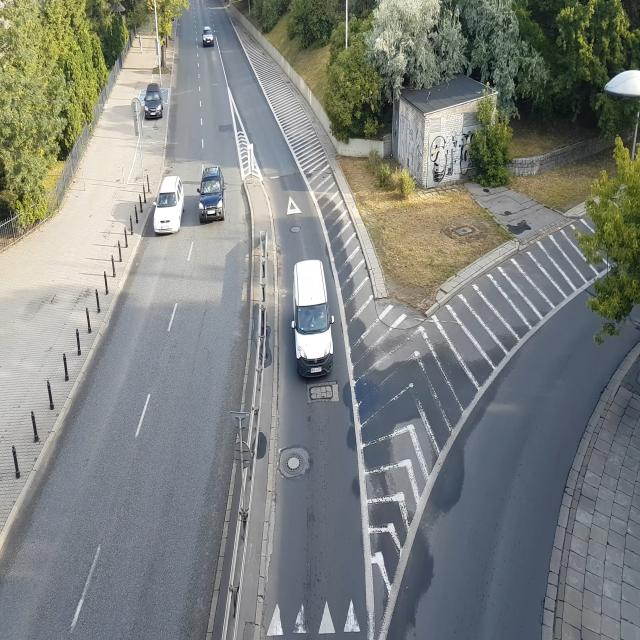car: (292, 255, 339, 376), (154, 173, 186, 235), (200, 166, 227, 222), (143, 88, 165, 120), (202, 27, 214, 47)
